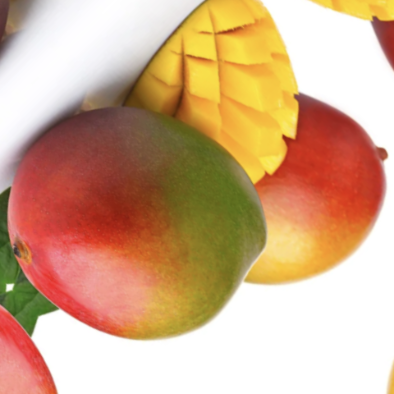mango: (0, 38, 317, 394), (123, 29, 394, 350)
